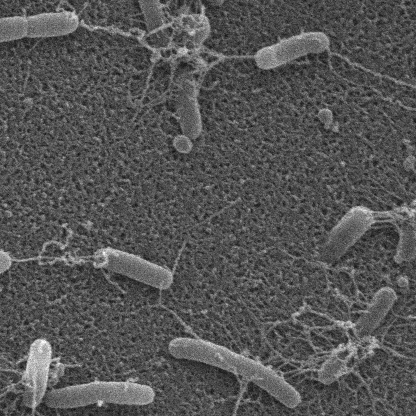cell2cell: (326, 56, 416, 117), (330, 53, 416, 101), (156, 289, 202, 341), (76, 22, 180, 38), (0, 256, 109, 263), (205, 56, 255, 69), (371, 208, 405, 226), (0, 393, 2, 416)
cell2surface: (301, 308, 358, 333), (217, 380, 252, 416), (167, 243, 189, 274), (390, 310, 416, 326), (380, 415, 392, 416)
curved: (172, 0, 226, 4)
regular: (167, 339, 306, 411), (258, 33, 333, 72), (321, 204, 374, 258), (50, 380, 159, 406), (104, 248, 165, 287), (176, 65, 205, 140), (358, 287, 397, 340), (22, 341, 50, 408), (321, 340, 363, 383), (142, 0, 174, 51), (392, 204, 416, 263), (28, 13, 76, 40), (0, 19, 26, 46), (0, 258, 9, 300)
